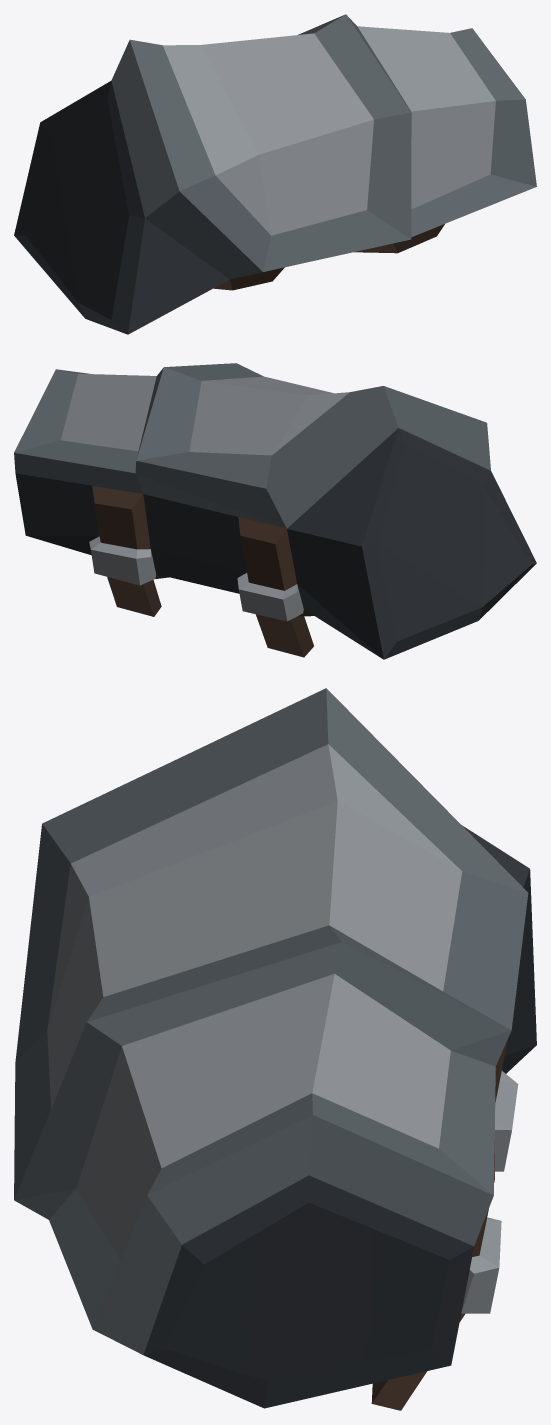
Rendered from Chr_ArmUpperLeft_Male_12_Static.fbx.
3 views of the same model, one above another, from view 1: azimuth 30°, elevation 25°; view 2: azimuth 150°, elevation 25°; view 3: azimuth 270°, elevation 25° (orthographic). The views are drawn at different scales.
Parts seen in each view (by area): view 1: Chr_ArmUpperLeft_Male_12_Static; view 2: Chr_ArmUpperLeft_Male_12_Static; view 3: Chr_ArmUpperLeft_Male_12_Static.
Part boxes in pixels (bbox=[...]): Chr_ArmUpperLeft_Male_12_Static: bbox=[14, 14, 536, 334]; Chr_ArmUpperLeft_Male_12_Static: bbox=[14, 363, 536, 659]; Chr_ArmUpperLeft_Male_12_Static: bbox=[14, 688, 536, 1410].
Size of the model in its own units: 0.3255 by 0.1945 by 0.1838.
